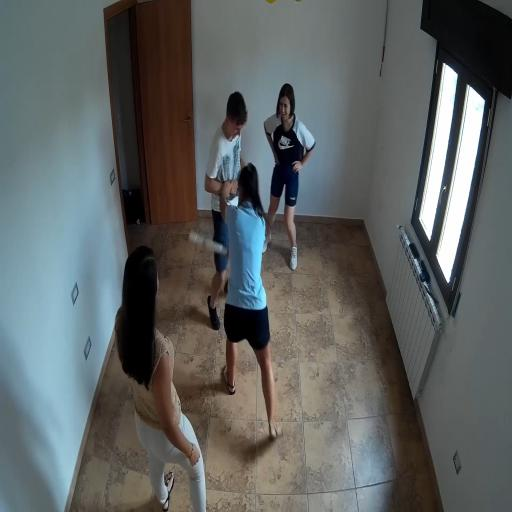violencia: (176, 88, 308, 446)
